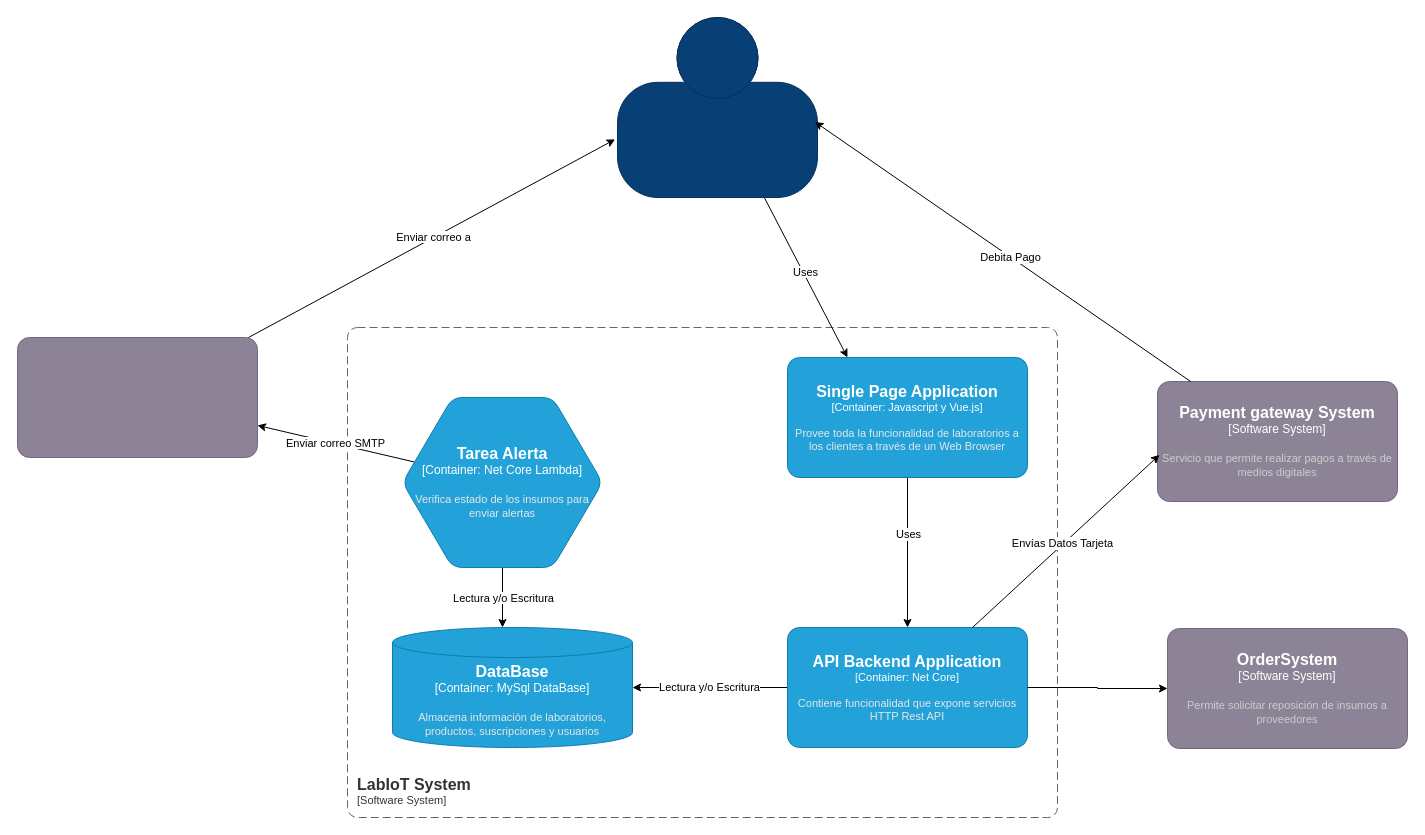
Some shapes in this 1425 by 835 pixel diagram are drawn without their labels. The shapes that lost their labels are listed below. From the top down, each one's centre as x and y in pixels, then its label:
point (717, 107): LabIoTUser [Person] Usuario del sistema LabIoT con suscripción
point (137, 397): Email System [Software System] Envío de correos sobre alerta de insumos
